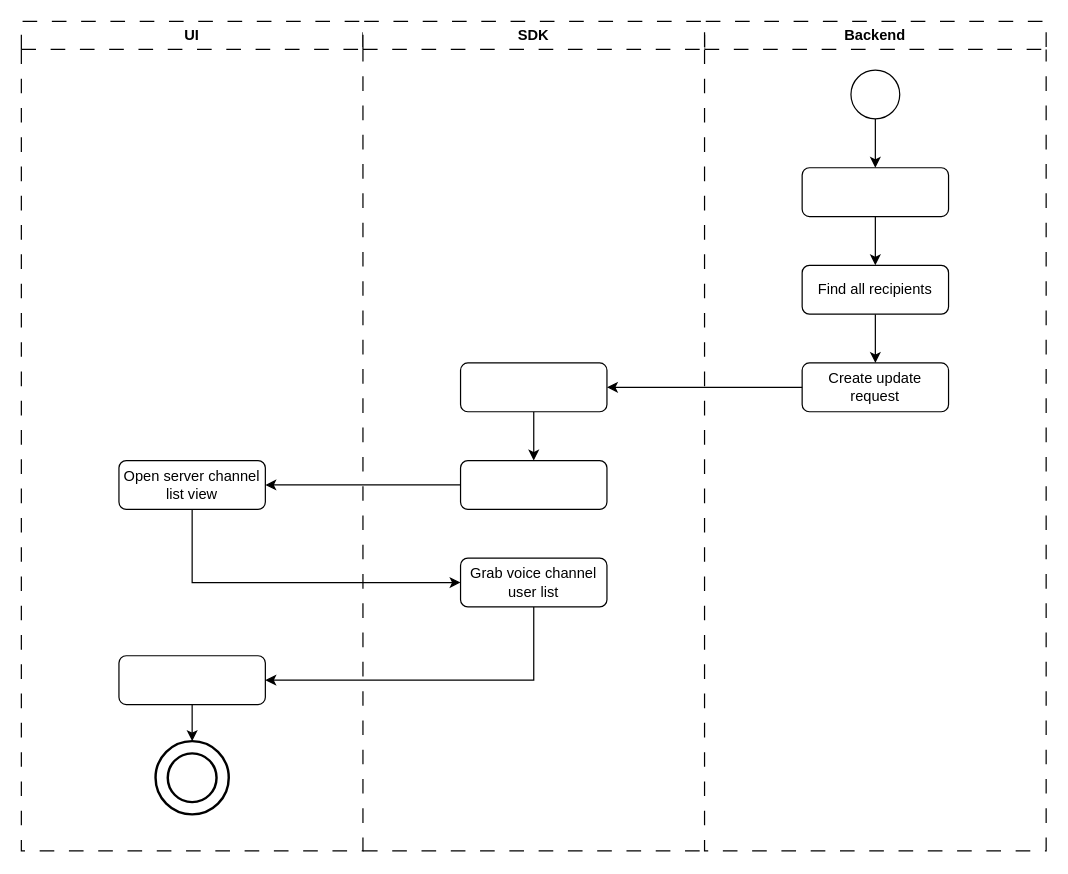
This 1068x874 diagram has some shape labels left out. The centre of each missing label's shape, as x and y in pixels:
"Decode request" goes at point (533, 387).
"Update event triggered" goes at point (875, 192).
"Update UI with user list for channel" goes at point (191, 680).
"Update voice channel user list locally" goes at point (533, 484).
